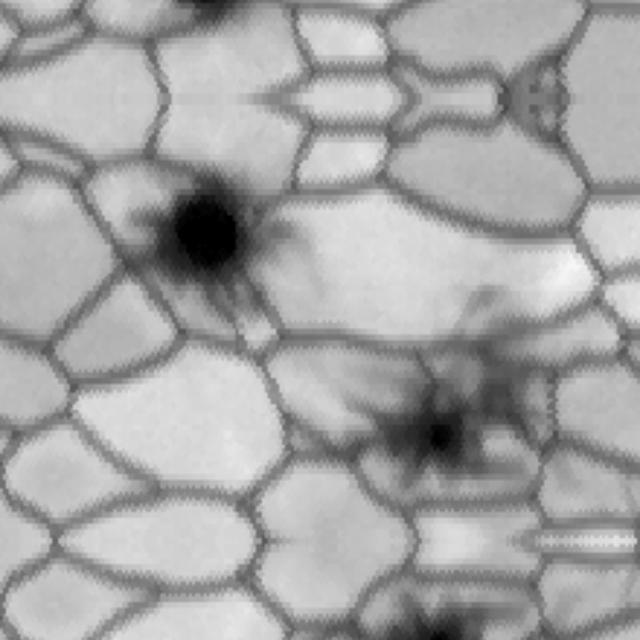good_void: (344, 259, 578, 510), (115, 160, 308, 341), (344, 574, 561, 640)
